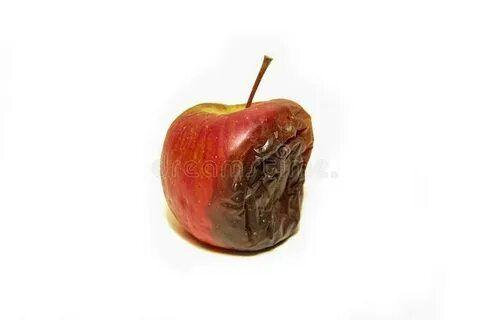Apple: (163, 102, 313, 254)
